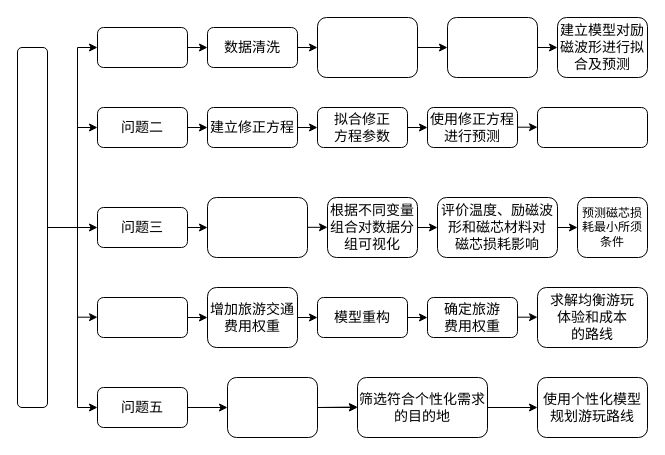
The diagram is 665 pixels wide and 455 high, and some of its shapes have lost their labels. Each missing label, with the centre of its shape:
"使用ANOVA 方差分析各 变量关系" belongs at point 257,227.
"基于线性规划的 旅游路线优化模型" belongs at point 32,227.
"对各修正方程预测 效果进行评价" belongs at point 592,127.
"提取数据时域特征和频域特征、进行独热编码" belongs at point 367,47.
"通过相关性分析筛选特征" belongs at point 492,47.
"针对个性化需求构建模型" belongs at point 272,407.
"问题一" belongs at point 142,47.
"问题四" belongs at point 142,317.
